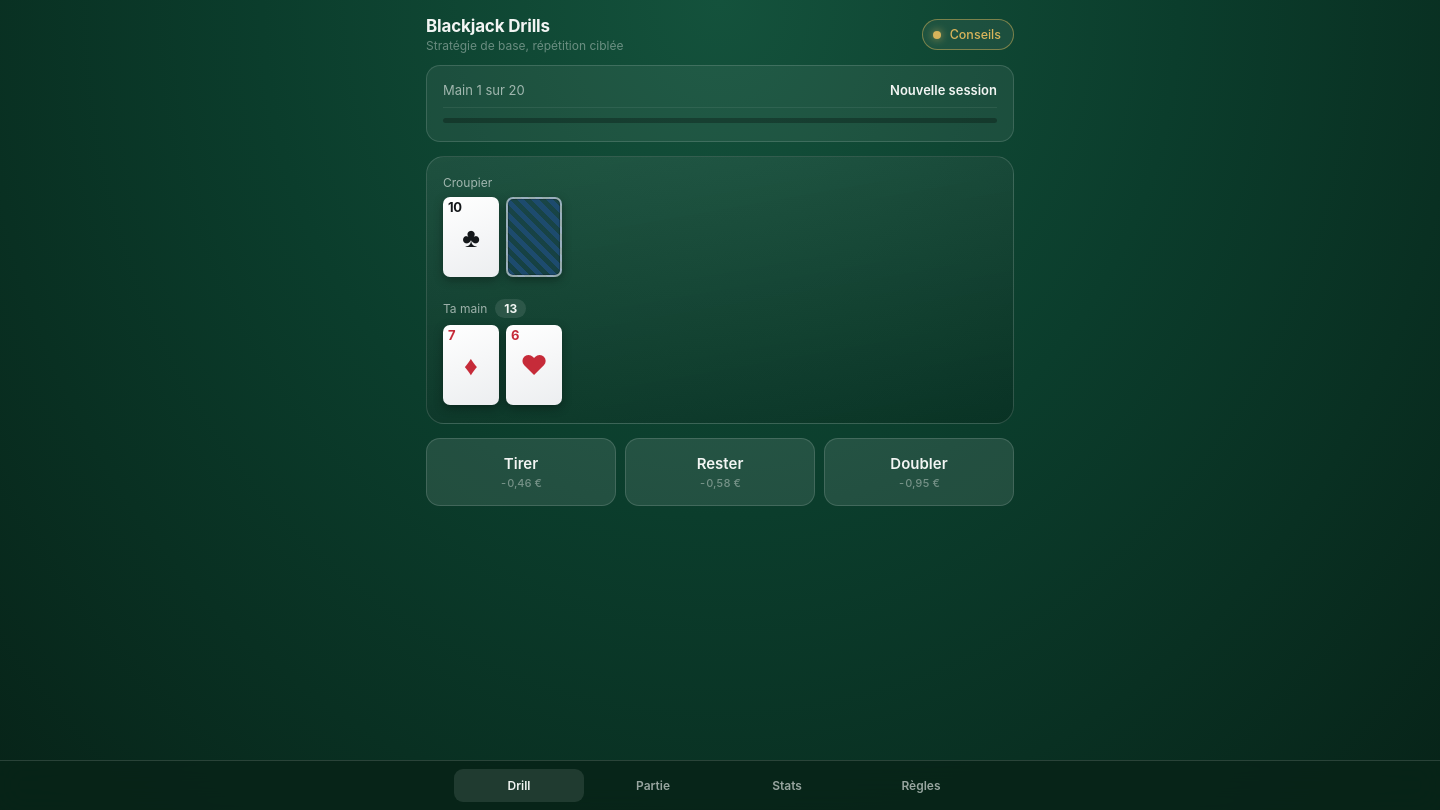
Scenario: toggle des conseils › affiche les espérances sur les boutons, puis les retire
The width and height of the screenshot is (1440, 810).
Expected: the button "Tirer -0,46 €" is shown, [426,438,616,506]
Step 1. Click the button "Conseils" → (968, 34), box [922,19,1014,50]
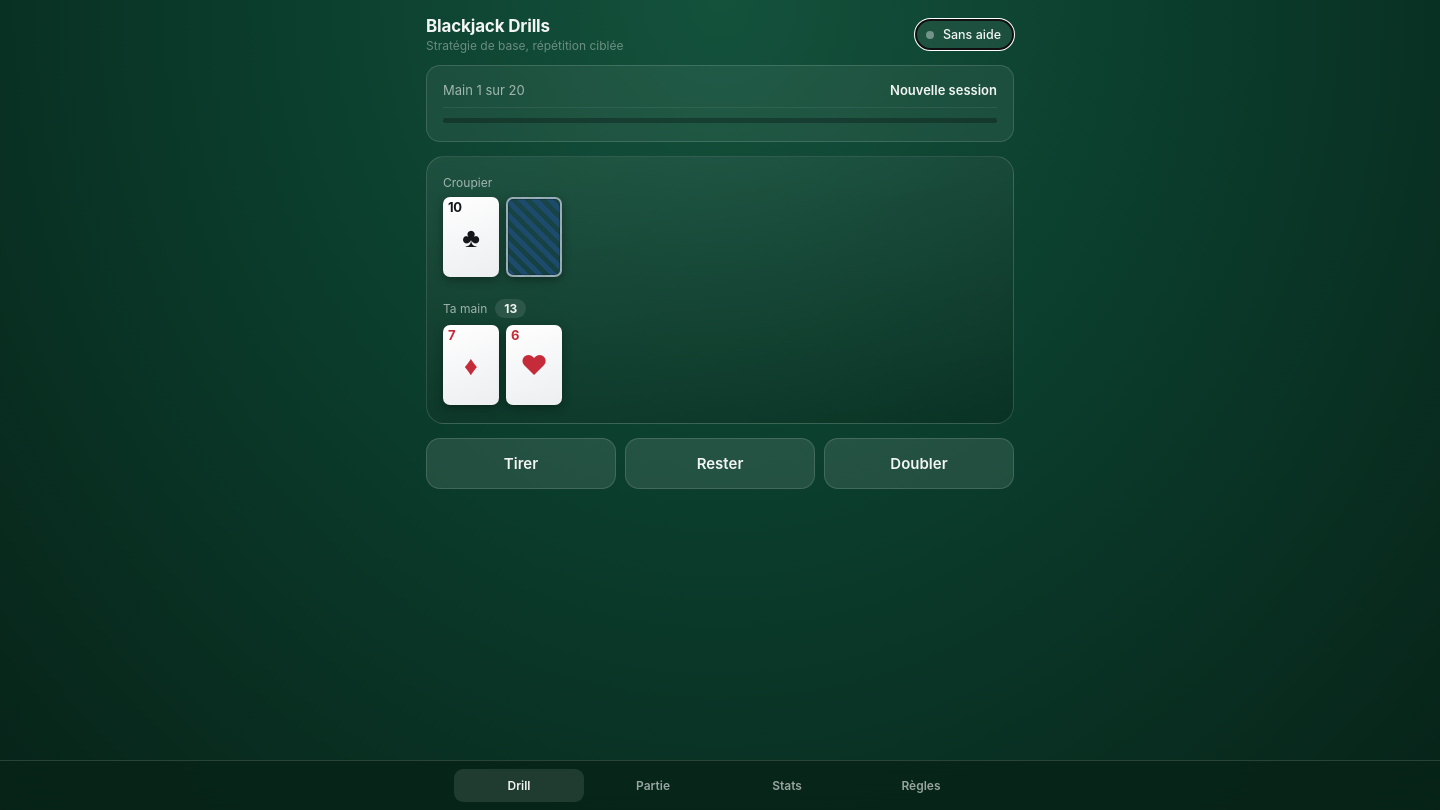
Now the button "Tirer" is shown, box [426,438,616,489]
